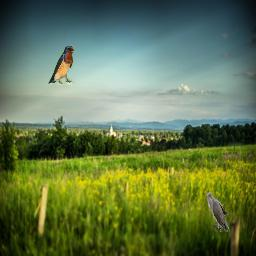Cuckoo: (206, 192, 230, 232)
Swallow: (48, 45, 74, 85)
